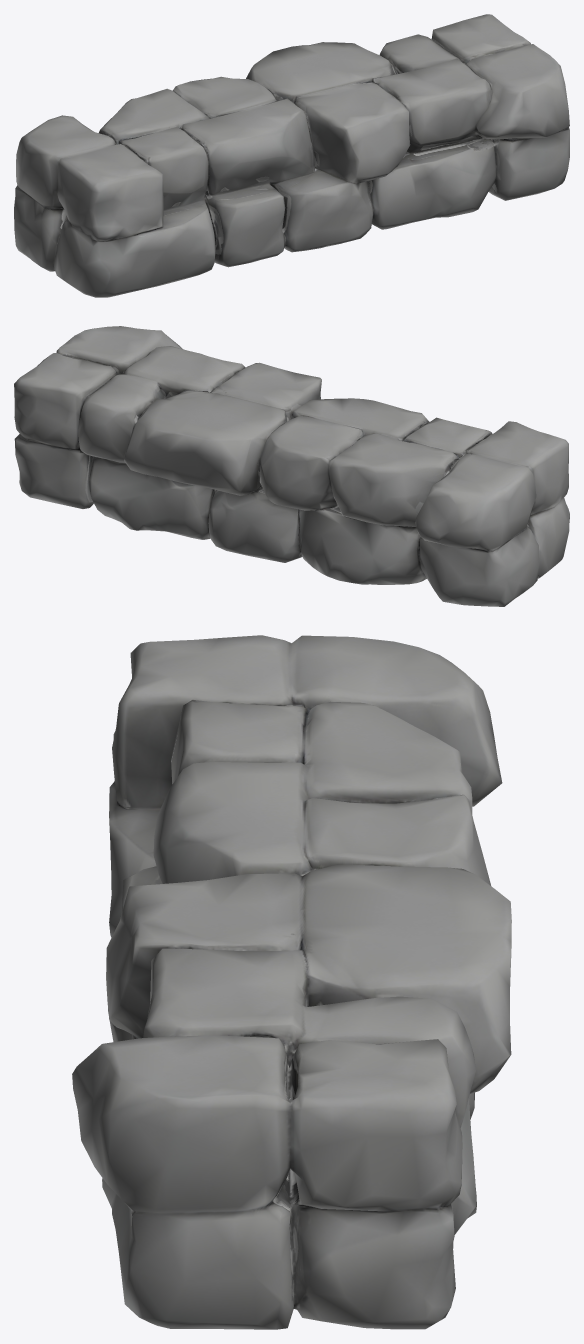
File: Low_poly_ancient_dry__1206122132_texture-v2.glb
3 renders of one model, top to bottom at view 1: azimuth 30°, elevation 25°; view 2: azimuth 150°, elevation 25°; view 3: azimuth 270°, elevation 25°, orthographic. The views are drawn at different scales.
Parts seen in each view (by area): view 1: Mesh1.0; view 2: Mesh1.0; view 3: Mesh1.0.
Part boxes in pixels (x1,y1,x2,y2): Mesh1.0: (14, 14, 569, 297); Mesh1.0: (14, 326, 569, 606); Mesh1.0: (72, 635, 511, 1329).
Size of the model in its own units: 6.54 by 1.5 by 2.56.
Materials: 1 (1 with a texture image).
